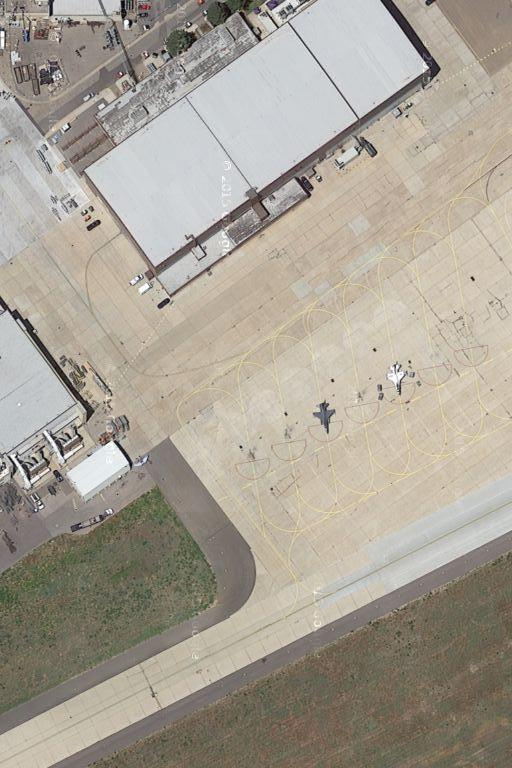F-16: (312, 396, 339, 440), (383, 359, 408, 400)
